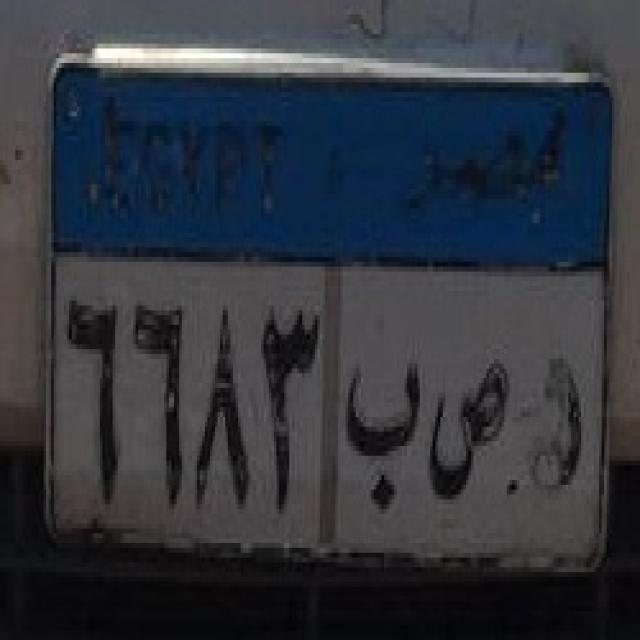3: (252, 300, 326, 524)
6: (60, 288, 132, 502), (130, 299, 198, 507)
8: (192, 298, 256, 524)
Saad: (422, 341, 520, 512)
baa: (338, 326, 428, 528)
daal: (524, 337, 592, 519)
